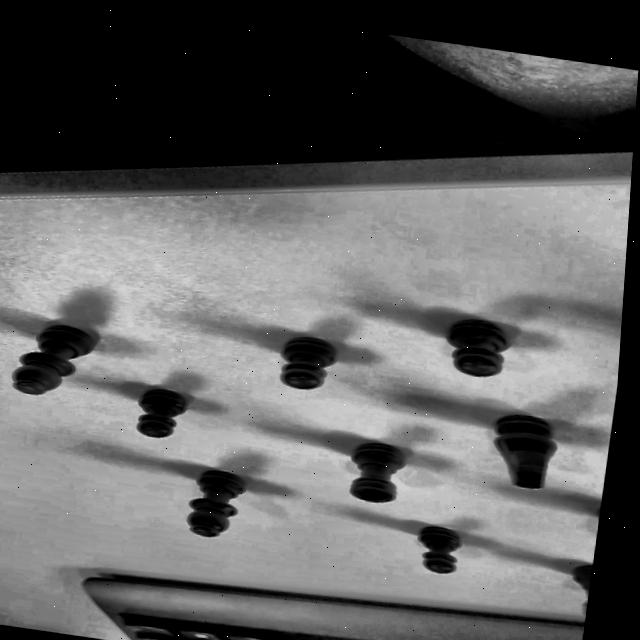black-bishop: (0, 308, 108, 413), (156, 449, 266, 550)
black-knight: (460, 400, 572, 500), (567, 496, 601, 565)
black-pawn: (424, 301, 524, 386), (262, 321, 358, 400), (118, 373, 211, 449), (399, 515, 476, 586)
black-rook: (338, 429, 420, 513), (557, 557, 593, 622)
